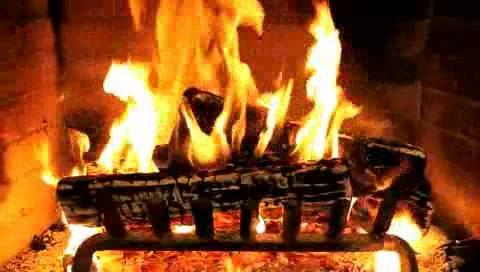fire: (93, 6, 352, 176)
